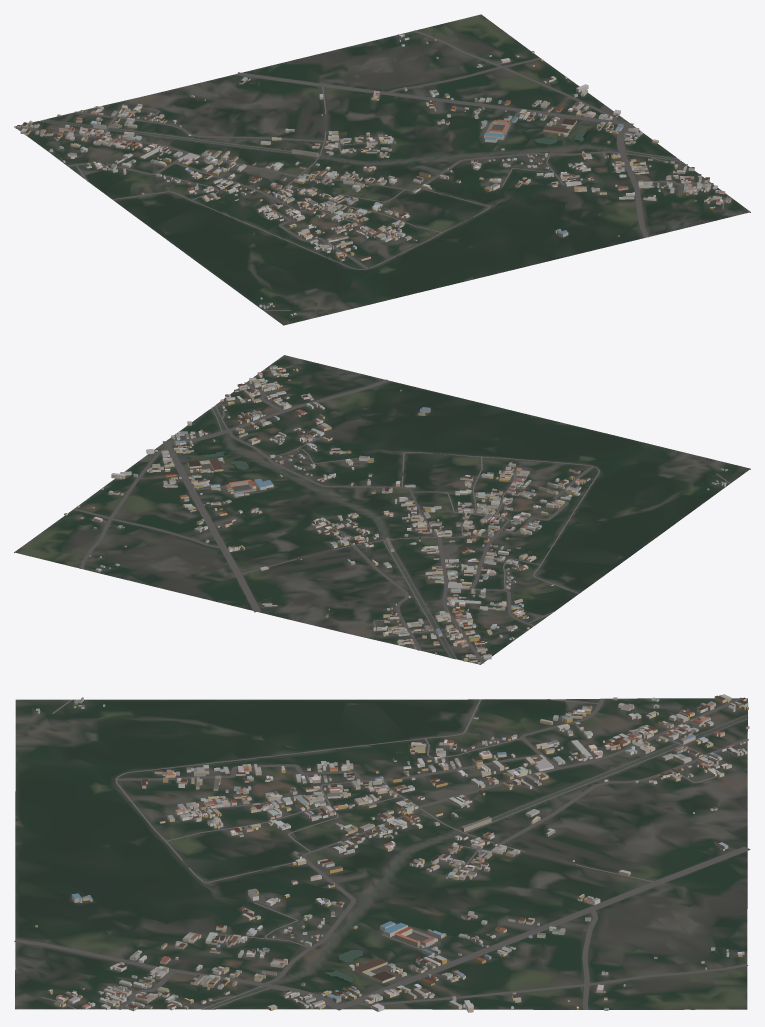
3 renders of one model, top to bottom at view 1: azimuth 30°, elevation 25°; view 2: azimuth 150°, elevation 25°; view 3: azimuth 270°, elevation 25°, orthographic. The views are drawn at different scales.
Visible parts, largest first — view 1: ground, buildings, roads, water; view 2: ground, buildings, roads, water; view 3: ground, buildings, roads, water.
Boxes of the visible parts, x1,y1,x2,y2 form: ground: (14,14,750,325); buildings: (17,34,731,315); roads: (15,30,728,310); water: (41,120,679,163); ground: (14,355,750,664); buildings: (64,365,727,663); roads: (73,366,730,663); water: (201,407,453,658); ground: (15,698,747,1009); buildings: (35,694,749,1012); roads: (14,697,750,1010); water: (207,716,747,1009).
Size of the model in its own units: 1418 by 16.99 by 1410.
